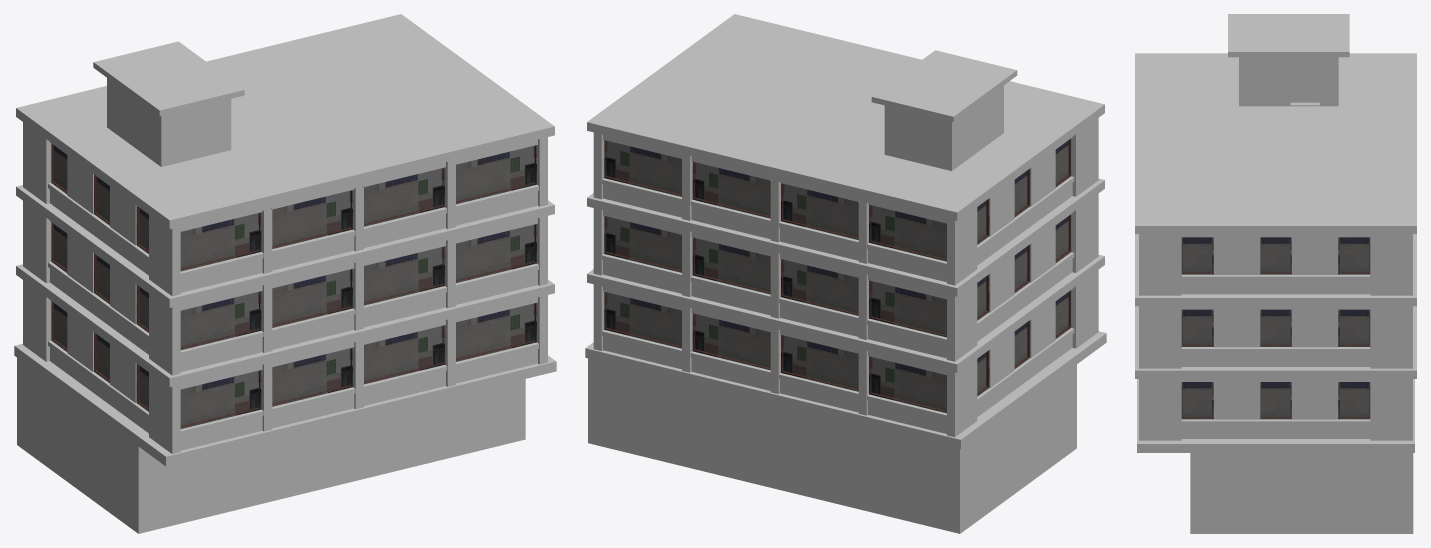
3 renders of one model, left to right at view 1: azimuth 30°, elevation 25°; view 2: azimuth 150°, elevation 25°; view 3: azimuth 270°, elevation 25°, orthographic. The views are drawn at different scales.
Parts seen in each view (by area): view 1: FZ_002; view 2: FZ_002; view 3: FZ_002.
Boxes of the visible parts, x1,y1,x2,y2 form: FZ_002: (14,14,556,533); FZ_002: (585,14,1106,533); FZ_002: (1135,14,1416,533).
Bounding box in the file's own units: 1118 × 762 × 1090.
